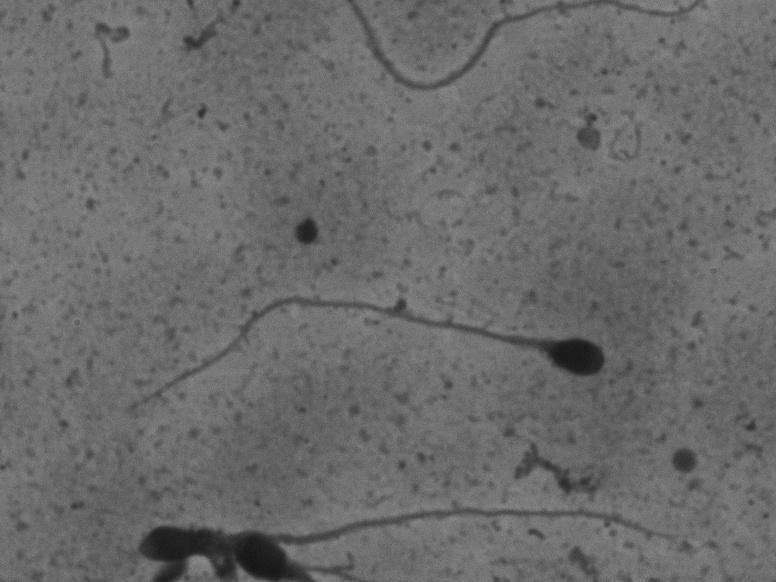Normal: (116, 274, 613, 469)
